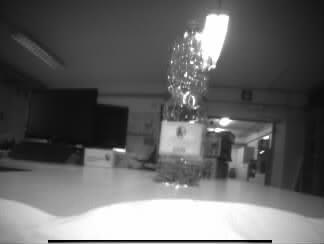Bottle: (162, 22, 207, 184)
